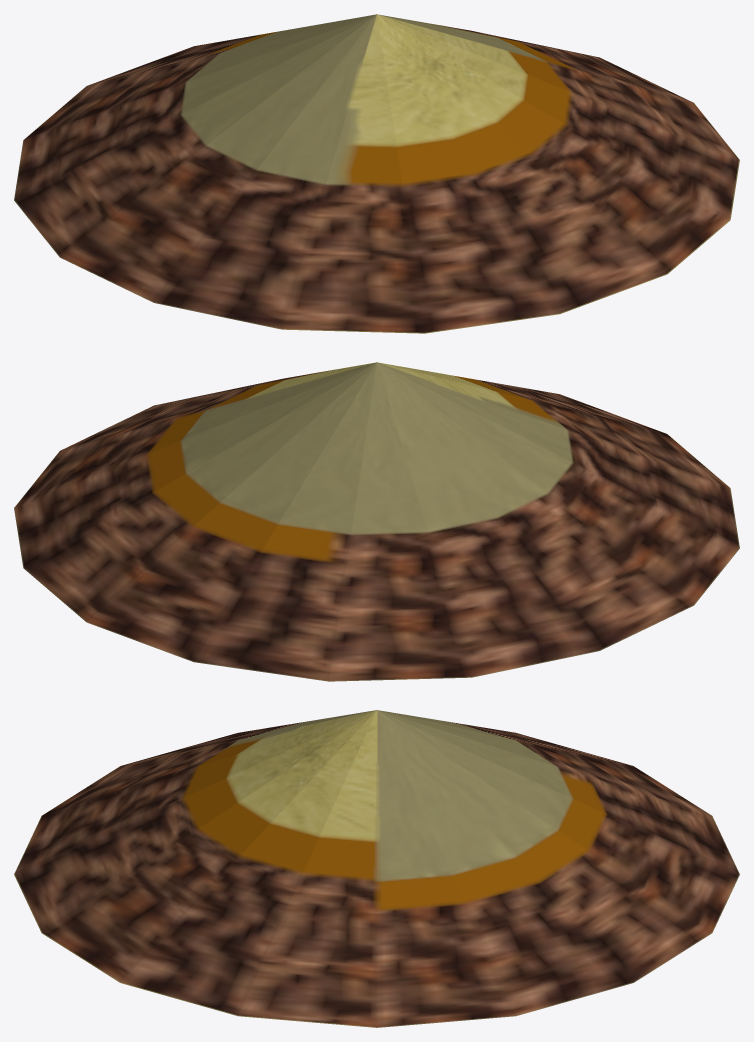
The model's file is hutRoof.obj.
3 views of the same model, one above another, from view 1: azimuth 30°, elevation 25°; view 2: azimuth 150°, elevation 25°; view 3: azimuth 270°, elevation 25° (orthographic).
Visible parts, largest first — view 1: hutRoof; view 2: hutRoof; view 3: hutRoof.
Boxes of the visible parts, x1,y1,x2,y2 form: hutRoof: (14, 14, 739, 333); hutRoof: (14, 362, 739, 681); hutRoof: (14, 710, 739, 1027).
Size of the model in its own units: 4 by 1 by 4.
Materials: 1 (1 with a texture image).
